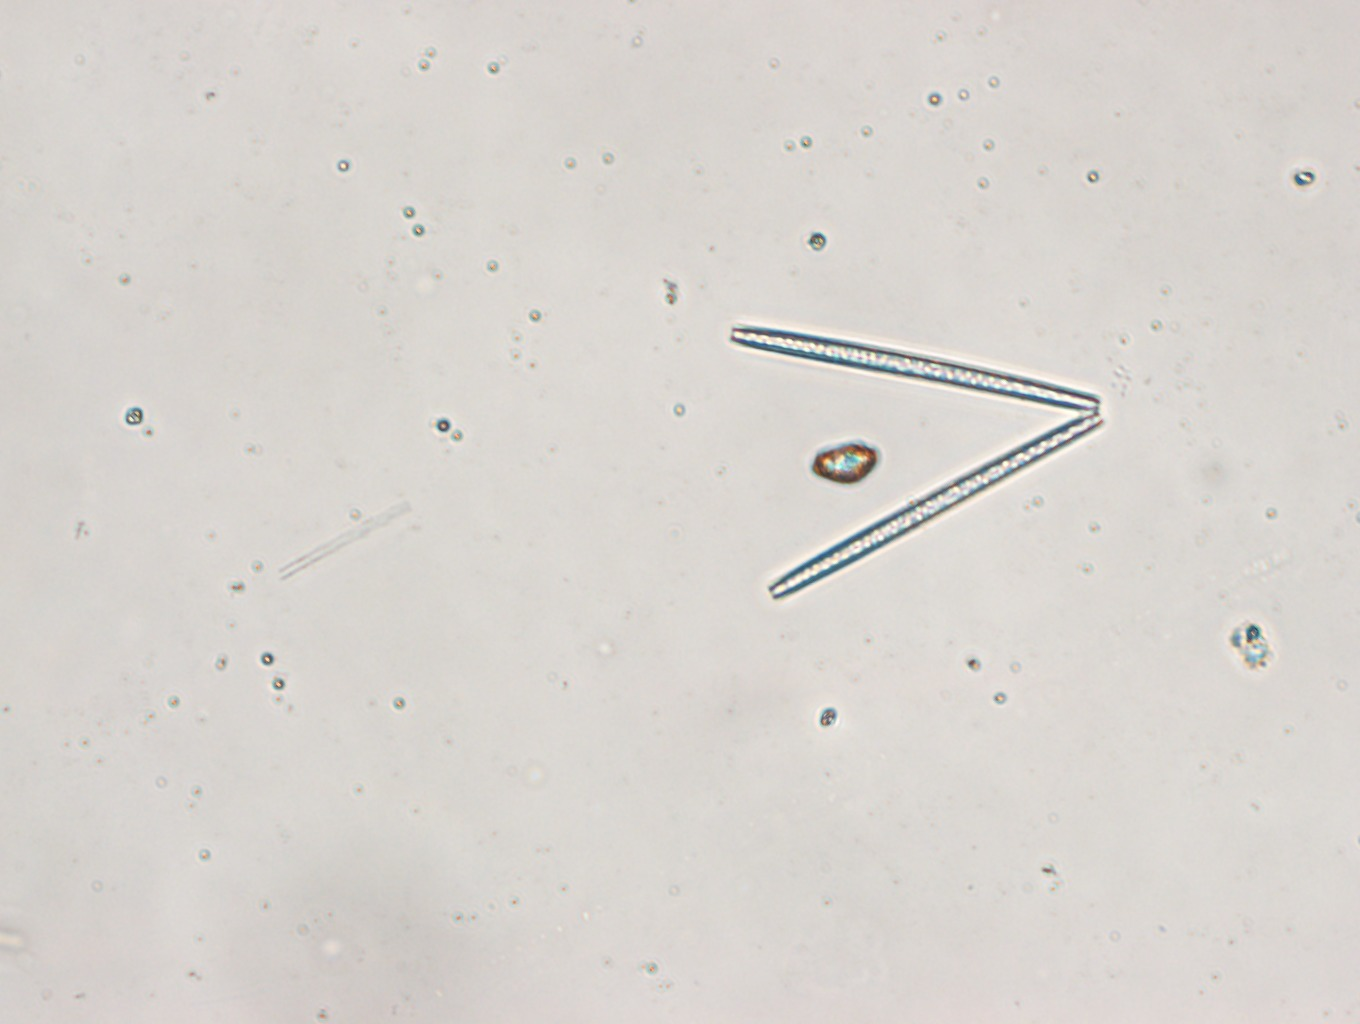thalassionema frauenfeldii: (725, 315, 1111, 598)
